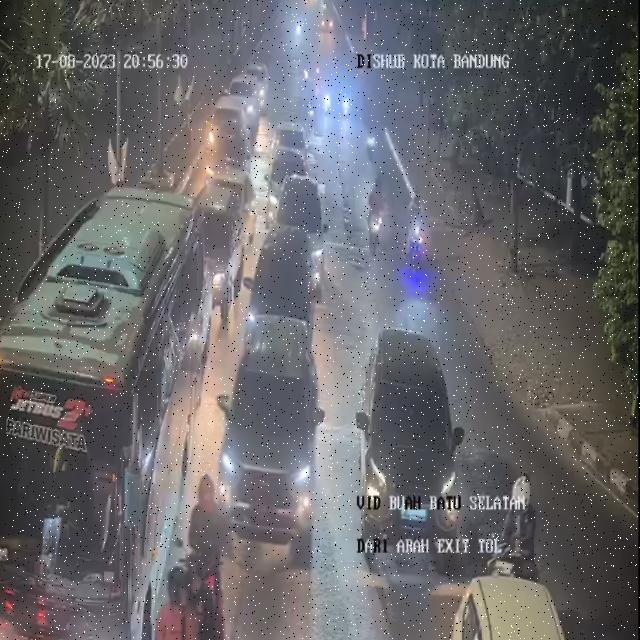bus: (0, 187, 201, 638)
cars: (362, 320, 468, 571), (215, 316, 320, 569), (242, 218, 316, 371), (455, 574, 574, 640), (192, 181, 243, 319), (272, 169, 324, 291), (206, 98, 256, 222), (267, 118, 310, 196), (321, 68, 355, 122), (232, 67, 268, 116)
motorcycle: (166, 476, 234, 640), (482, 481, 549, 589), (400, 193, 427, 285), (365, 176, 390, 266), (364, 105, 380, 160)
